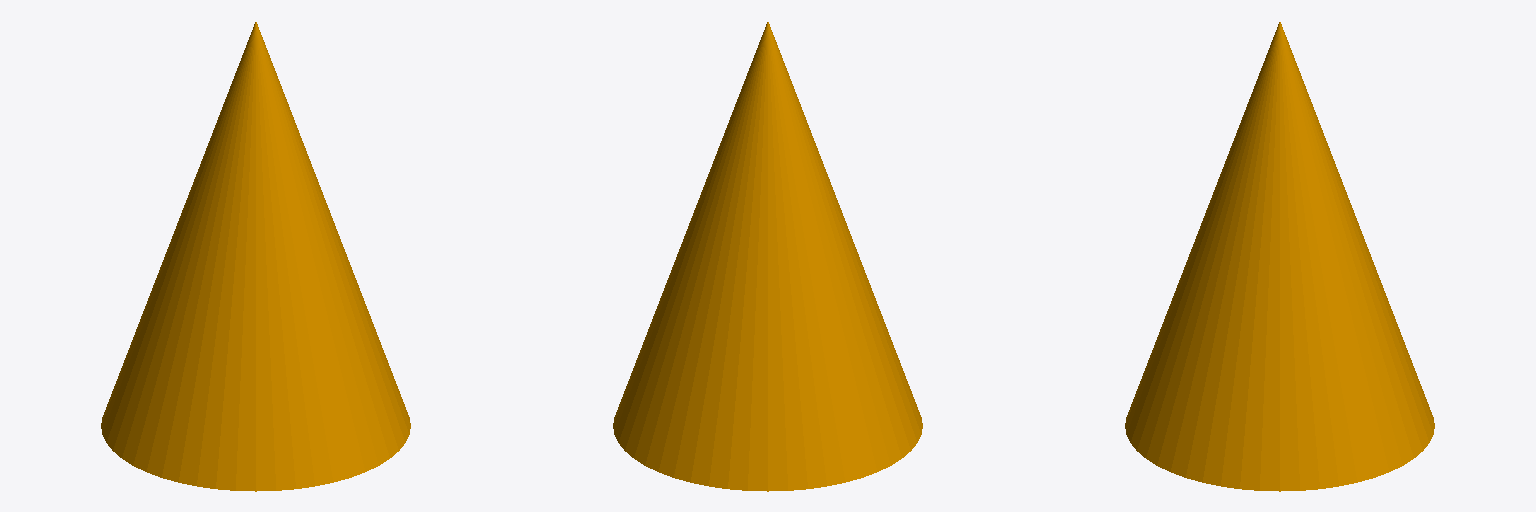
robot.urdf — object:
<?xml version="1.0"?>
<!-- Auto-generated by tools/gen_primitive_objects.py. kind=cone dims=(0.045, 0.13) -->
<robot name="object">
  <link name="object">
    <visual>
      <origin xyz="0 0 0"/>
      <geometry>
        <mesh filename="obj_1.stl"/>
      </geometry>
    </visual>
    <collision>
      <origin xyz="0 0 0"/>
      <geometry>
        <mesh filename="obj_1.stl"/>
      </geometry>
    </collision>
    <inertial>
      <origin xyz="0 0 -0.032500"/>
      <mass value="0.055135"/>
      <inertia ixx="0.00005169" ixy="0.0" ixz="0.0" iyy="0.00005169" iyz="0.0" izz="0.00003349"/>
    </inertial>
  </link>
</robot>

--- Facts derived from the render (not from the file) ---
Views: 3 orthographic renders of the robot side by side, from view 1: azimuth 30°, elevation 25°; view 2: azimuth 150°, elevation 25°; view 3: azimuth 270°, elevation 25°.
Robot: object — 1 links, 0 joints (none); root link object; default pose: every joint at zero.
Visible links, largest first — view 1: object; view 2: object; view 3: object.
Boxes of the visible links, left/top/right/bottom form: object: left=101, top=22, right=410, bottom=491; object: left=613, top=22, right=922, bottom=491; object: left=1125, top=22, right=1434, bottom=491.
Size in the robot's own frame: 0.09 by 0.09 by 0.13 metres.
Meshes: 1 distinct files referenced, 1 mesh visuals loaded (1 binary STL).
